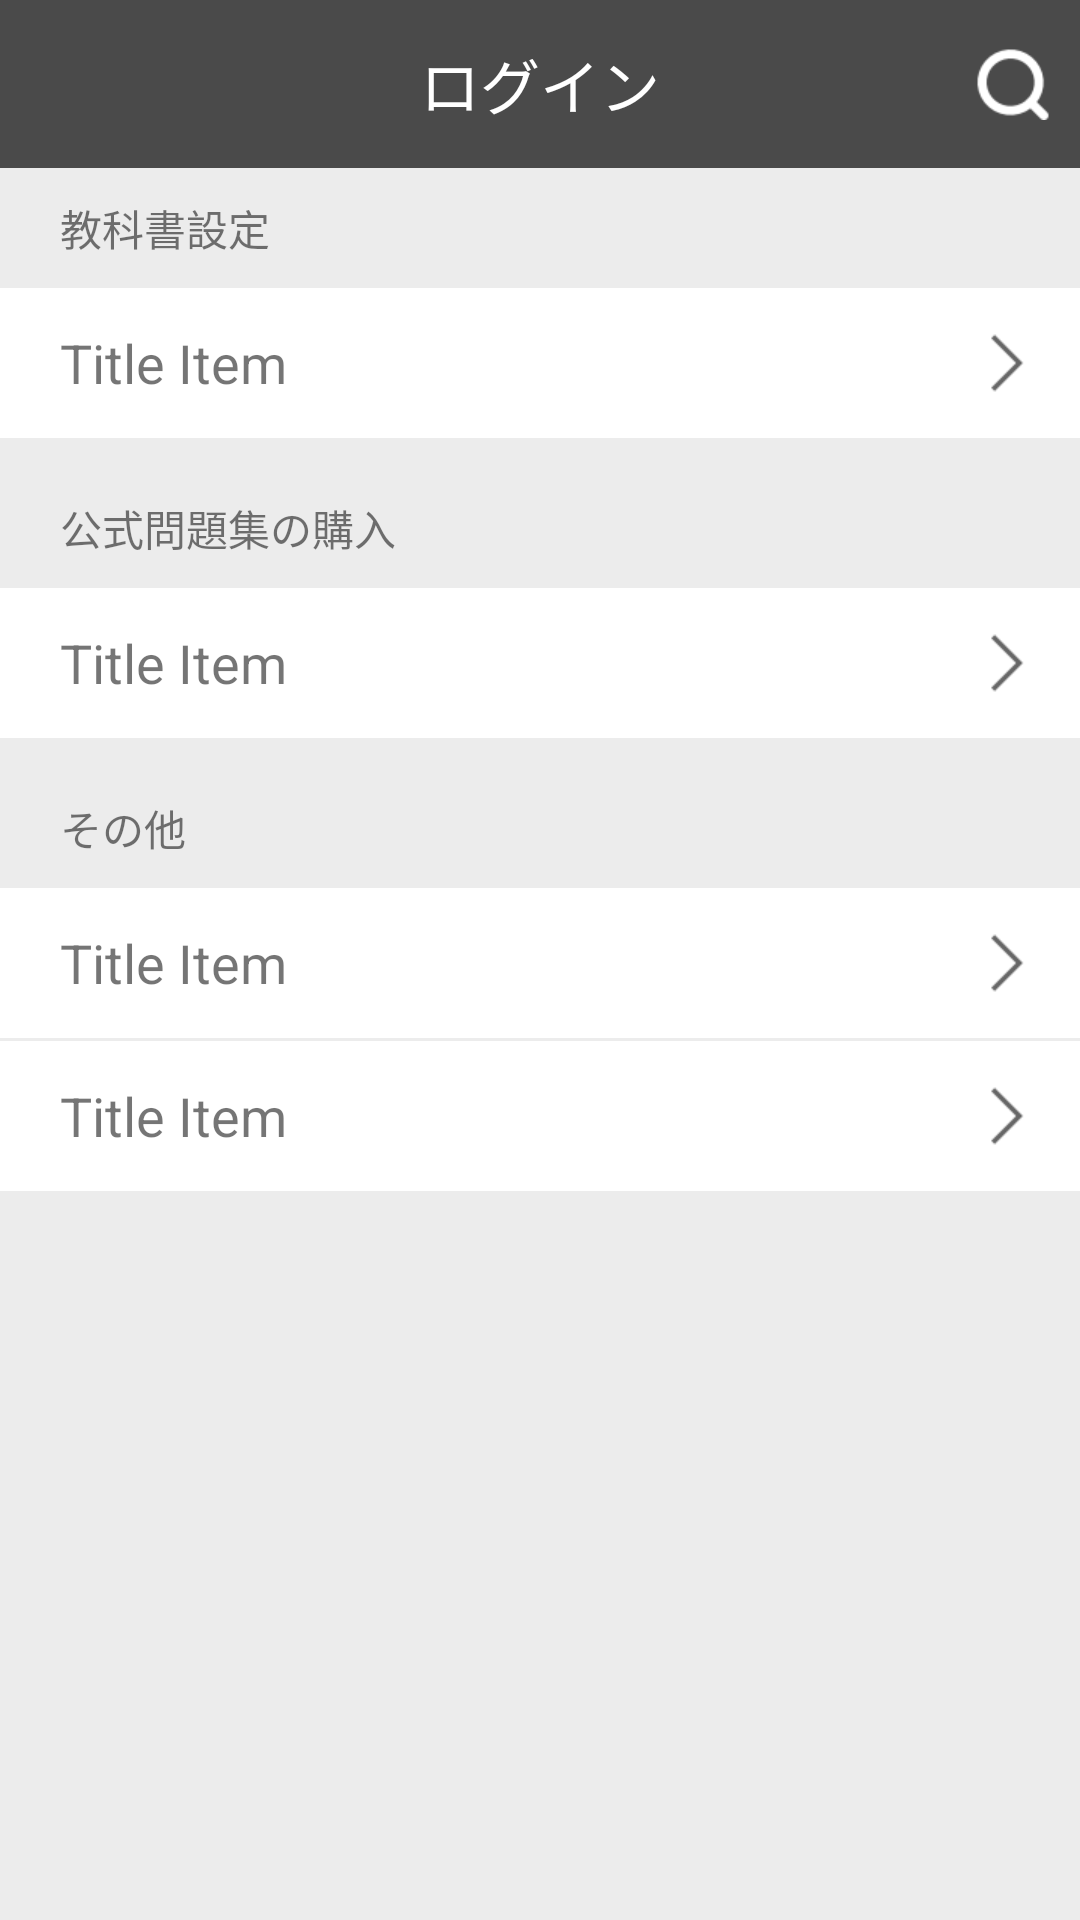

Named icons in this screenshot (1080×1920) and their centers, point (x, y):
right: point (1007, 363), point (1007, 663), point (1007, 963), point (1007, 1116)
search on: point (1013, 84)
